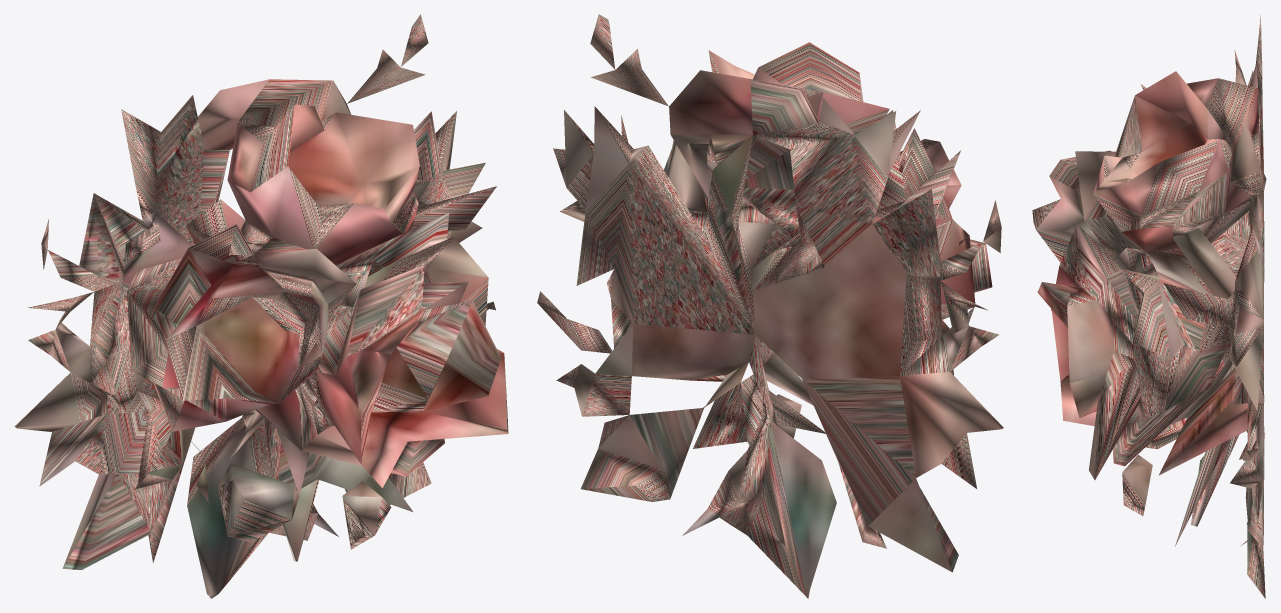
3 renders of one model, left to right at view 1: azimuth 30°, elevation 25°; view 2: azimuth 150°, elevation 25°; view 3: azimuth 270°, elevation 25°, orthographic. The views are drawn at different scales.
Visible parts, largest first — view 1: Rose-Bouquet-10-08; view 2: Rose-Bouquet-10-08; view 3: Rose-Bouquet-10-08.
Part boxes in pixels (x1,y1,x2,y2): Rose-Bouquet-10-08: (14,14,508,598); Rose-Bouquet-10-08: (537,14,1003,598); Rose-Bouquet-10-08: (1032,15,1266,598).
Size of the model in its own units: 0.2906 by 0.3136 by 0.129.
1 material, 1 textured.
